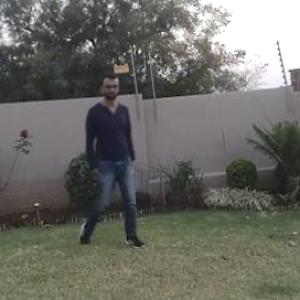follow: (82, 74, 139, 241)
